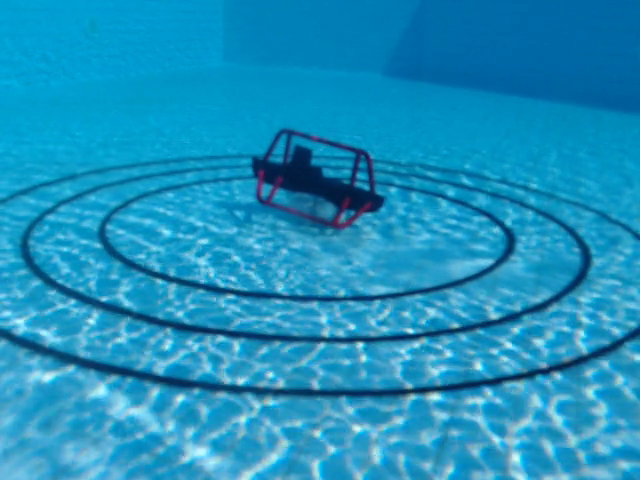submarine: (251, 128, 387, 231)
